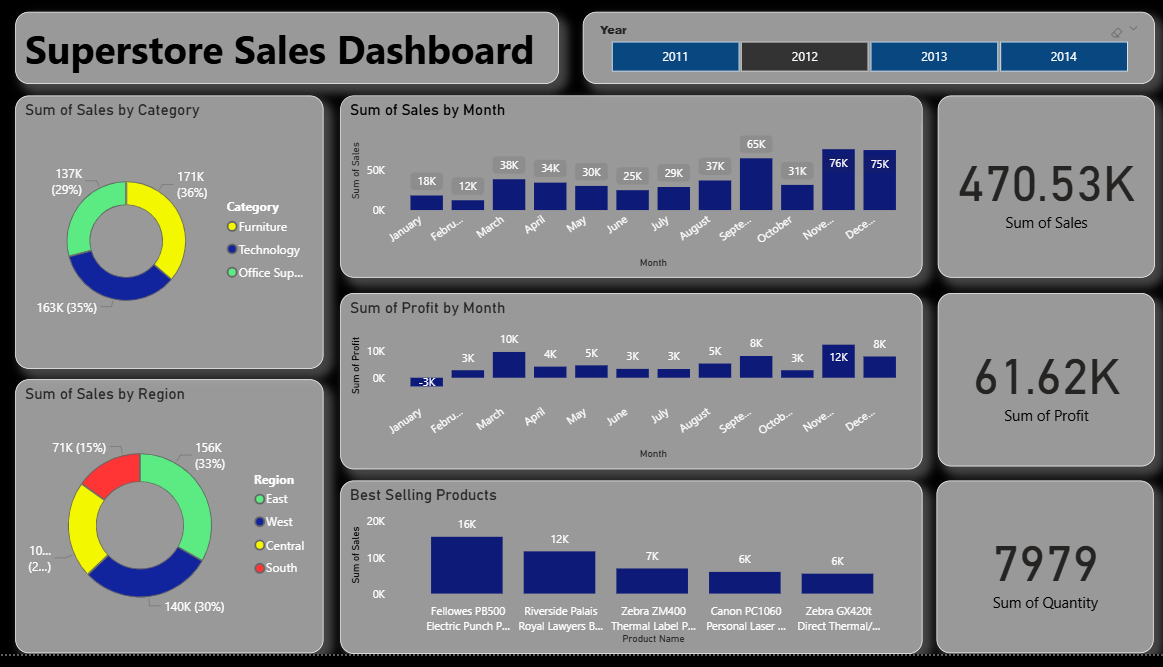

This screenshot's page, from the dashboard's own definition file:
{"tool":"powerbi","page":{"name":"Page 1","canvas":[1280,720],"ordinal":0},"visuals":[{"type":"textbox","box":[17.4,15.1,596.5,79.1],"z":0},{"type":"columnChart","fields":{"Y":["Sum(Orders.Profit)"],"Category":["Orders.Order Date.Variation.Date Hierarchy.Month"]},"box":[374.6,323.8,639.5,193.5],"z":1000},{"type":"donutChart","fields":{"Y":["Sum(Orders.Sales)"],"Category":["Orders.Region"]},"box":[17.4,418.6,338.4,301.2],"z":2000},{"type":"donutChart","fields":{"Y":["Sum(Orders.Sales)"],"Category":["Orders.Category"]},"box":[17.4,107,338.4,300],"z":3000},{"type":"columnChart","fields":{"Y":["Sum(Orders.Sales)"],"Category":["Orders.Order Date.Variation.Date Hierarchy.Month"]},"box":[374.6,107,639.5,200.3],"z":4000},{"type":"columnChart","title":"Best Selling Products","fields":{"Y":["Sum(Orders.Sales)"],"Category":["Orders.Product Name"]},"box":[374.6,529.7,639.5,190.7],"z":5000},{"type":"card","fields":{"Values":["Sum(Orders.Sales)"]},"box":[1030.2,107,238.4,200],"z":6000},{"type":"card","fields":{"Values":["Sum(Orders.Profit)"]},"box":[1030.2,323.3,238.4,190.7],"z":7000},{"type":"card","fields":{"Values":["Sum(Orders.Quantity)"]},"box":[1029.1,530.2,238.4,189.5],"z":8000},{"type":"slicer","fields":{"Values":["Orders.Order Date.Variation.Date Hierarchy.Year"]},"box":[640.7,15.1,627.9,79.1],"z":9000}]}

Visuals, with their boxes in screenshot pixels (x1, y1, x2, y2), scaled from the page's 1280x720 canvas onto the 1163x667 screenshot:
textbox: 16, 14, 558, 87
columnChart - Sum(Orders.Profit) x Orders.Order Date.Variation.Date Hierarchy.Month: 340, 300, 921, 479
donutChart - Sum(Orders.Sales) x Orders.Region: 16, 388, 323, 666
donutChart - Sum(Orders.Sales) x Orders.Category: 16, 99, 323, 377
columnChart - Sum(Orders.Sales) x Orders.Order Date.Variation.Date Hierarchy.Month: 340, 99, 921, 285
"Best Selling Products" columnChart: 340, 491, 921, 666
card - Sum(Orders.Sales): 936, 99, 1153, 284
card - Sum(Orders.Profit): 936, 300, 1153, 476
card - Sum(Orders.Quantity): 935, 491, 1152, 666
slicer - Orders.Order Date.Variation.Date Hierarchy.Year: 582, 14, 1153, 87
